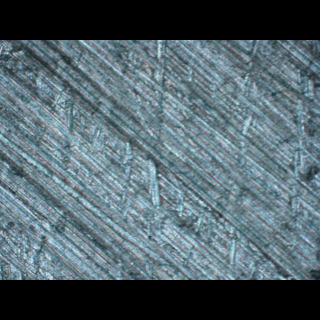d: (116, 137, 170, 222)
